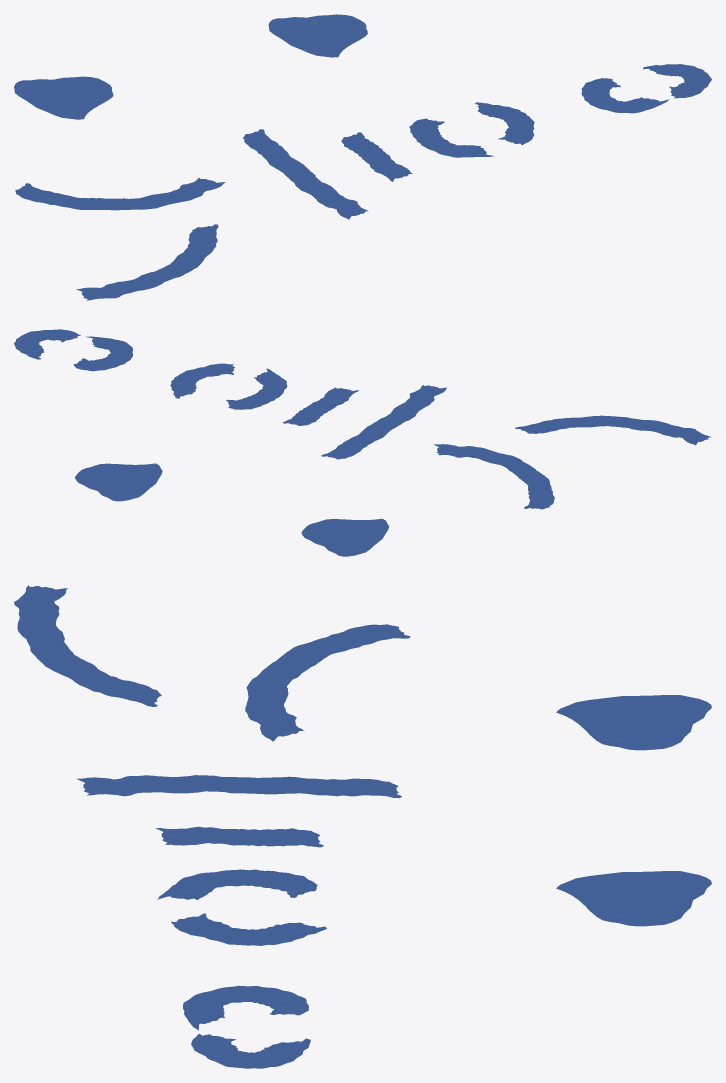
File: PUDDLES_EXPORT.FBX
3 views of the same model, one above another, from view 1: azimuth 30°, elevation 25°; view 2: azimuth 150°, elevation 25°; view 3: azimuth 270°, elevation 25° (orthographic). The views are drawn at different scales.
Parts seen in each view (by area): view 1: Cylinder001, Cylinder002, Plane007, Plane008, Plane004, Plane005, Plane002, Plane001, Plane003, Plane006; view 2: Cylinder002, Cylinder001, Plane008, Plane007, Plane004, Plane005, Plane002, Plane001, Plane003, Plane006; view 3: Cylinder001, Cylinder002, Plane004, Plane007, Plane008, Plane005, Plane002, Plane001, Plane003, Plane006.
Boxes of the visible parts, <box> form: Cylinder001: <box>14,76,113,119</box>; Cylinder002: <box>268,14,367,57</box>; Plane007: <box>15,178,225,210</box>; Plane008: <box>76,224,218,300</box>; Plane004: <box>243,129,368,219</box>; Plane005: <box>581,78,669,113</box>; Plane002: <box>409,118,494,157</box>; Plane001: <box>341,132,412,181</box>; Plane003: <box>475,102,534,144</box>; Plane006: <box>643,64,711,98</box>; Cylinder002: <box>75,463,162,501</box>; Cylinder001: <box>301,518,389,556</box>; Plane008: <box>515,415,711,445</box>; Plane007: <box>434,444,554,509</box>; Plane004: <box>321,385,446,459</box>; Plane005: <box>73,336,132,371</box>; Plane002: <box>226,368,287,409</box>; Plane001: <box>283,387,358,425</box>; Plane003: <box>170,363,234,398</box>; Plane006: <box>14,329,80,359</box>; Cylinder001: <box>556,695,711,750</box>; Cylinder002: <box>556,871,711,926</box>; Plane004: <box>77,775,401,798</box>; Plane007: <box>245,624,410,741</box>; Plane008: <box>14,585,161,706</box>; Plane005: <box>183,985,308,1030</box>; Plane002: <box>157,869,317,899</box>; Plane001: <box>155,826,323,847</box>; Plane003: <box>171,913,326,945</box>; Plane006: <box>191,1033,310,1068</box>.
Size of the model in its own units: 575 by 0.3528 by 351.
